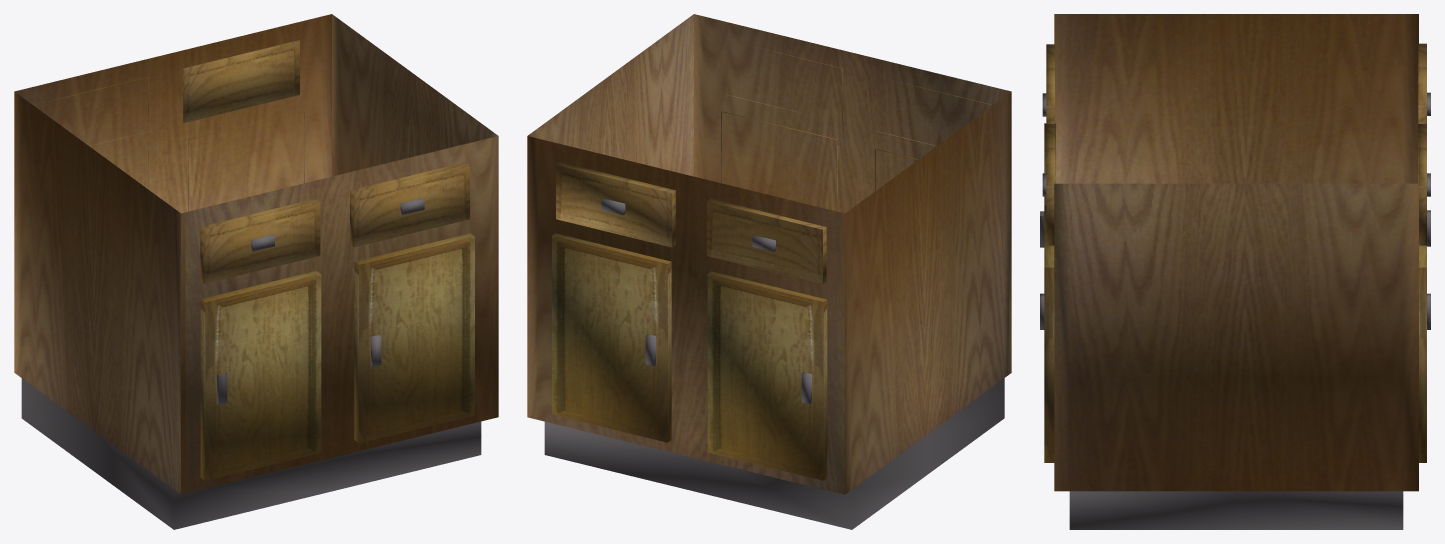
The model's file is cabinets_endpiece.fbx.
The picture shows the model from 3 angles, left to right: view 1: azimuth 30°, elevation 25°; view 2: azimuth 150°, elevation 25°; view 3: azimuth 270°, elevation 25°; orthographic projection. The views are drawn at different scales.
Parts seen in each view (by area): view 1: Cube; view 2: Cube; view 3: Cube.
Boxes of the visible parts, x1,y1,x2,y2 form: Cube: [14, 14, 498, 529]; Cube: [527, 14, 1011, 529]; Cube: [1040, 14, 1430, 529].
Bounding box in the file's own units: 12.87 × 12.46 × 12.54.
